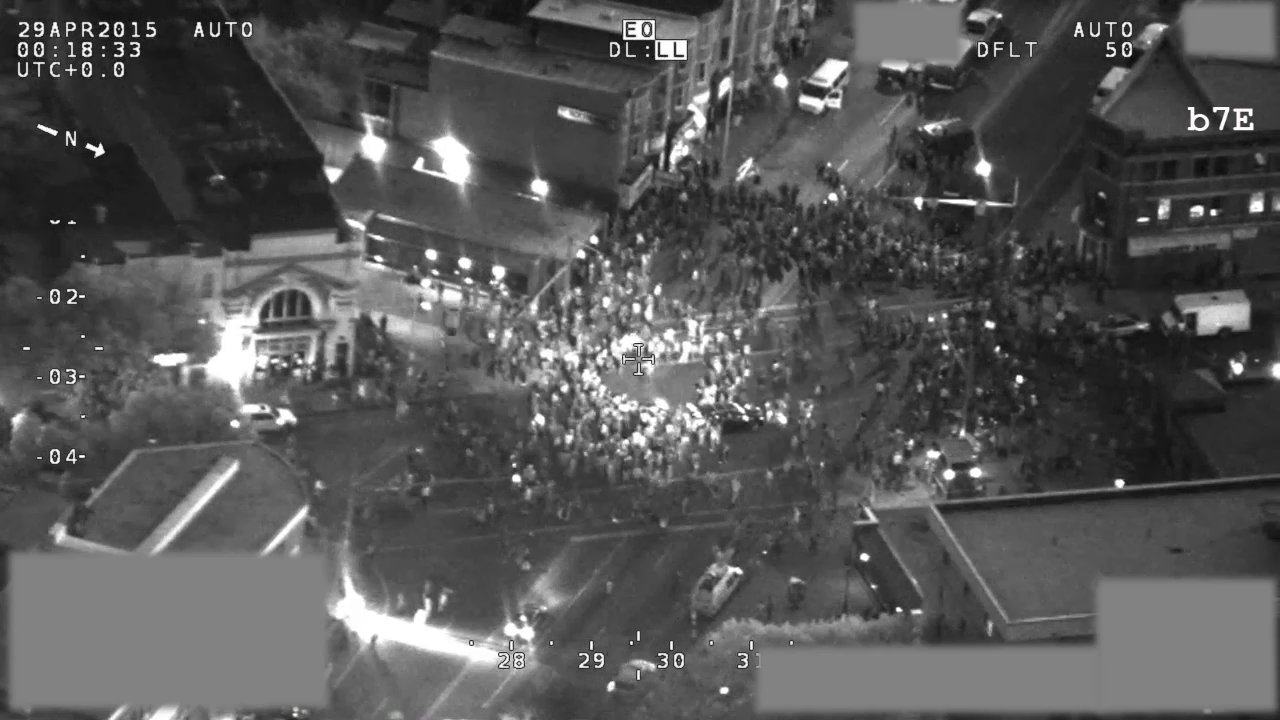vehicle: (1159, 284, 1256, 343), (890, 113, 975, 170), (687, 558, 752, 621), (225, 393, 302, 444), (685, 395, 771, 439), (795, 55, 851, 119), (602, 651, 659, 710), (1120, 12, 1176, 60), (1082, 309, 1157, 344), (1086, 60, 1134, 114), (959, 6, 1012, 52)
